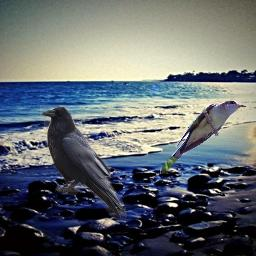Crow: (40, 105, 128, 220)
Cuckoo: (160, 100, 246, 174)
